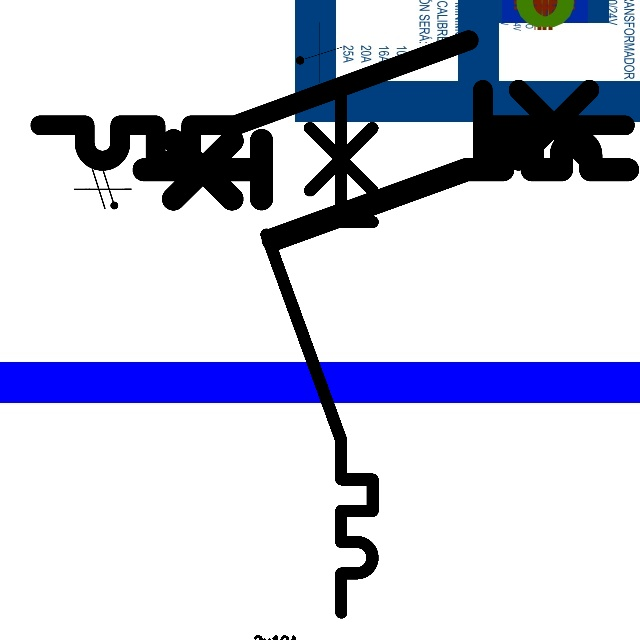interruptor_termomagnetico: (25, 25, 640, 176), (253, 83, 386, 626), (131, 128, 639, 252)
